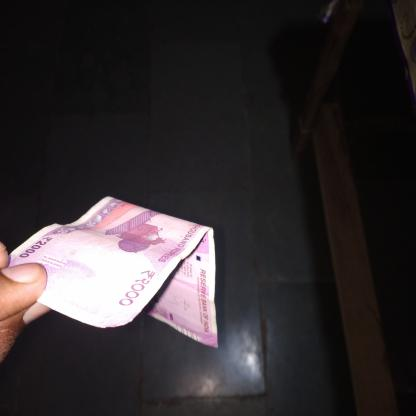New2000Back: (17, 194, 180, 312)
